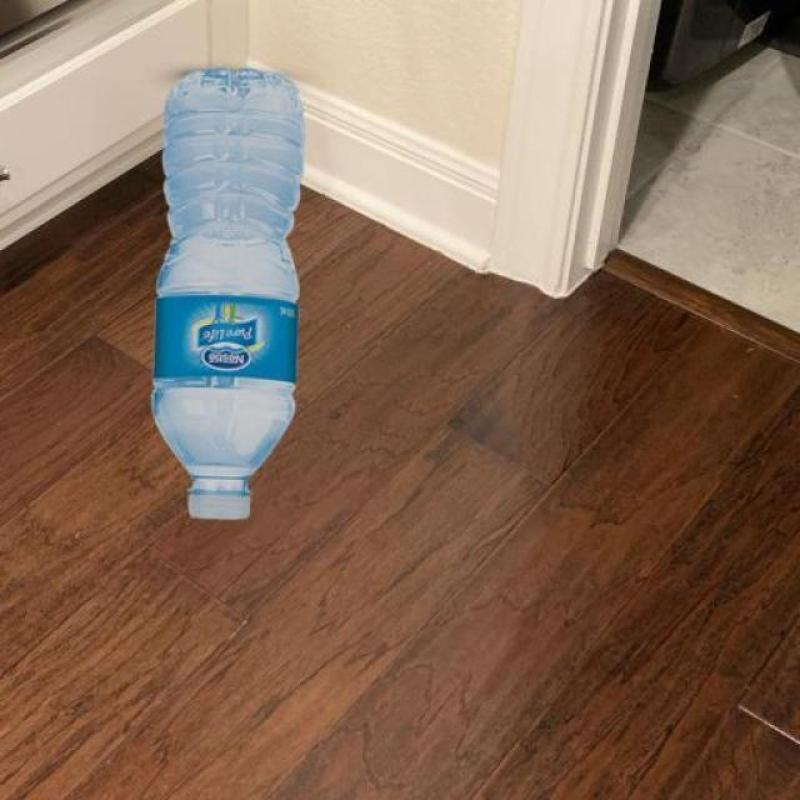botella: (154, 65, 306, 525)
